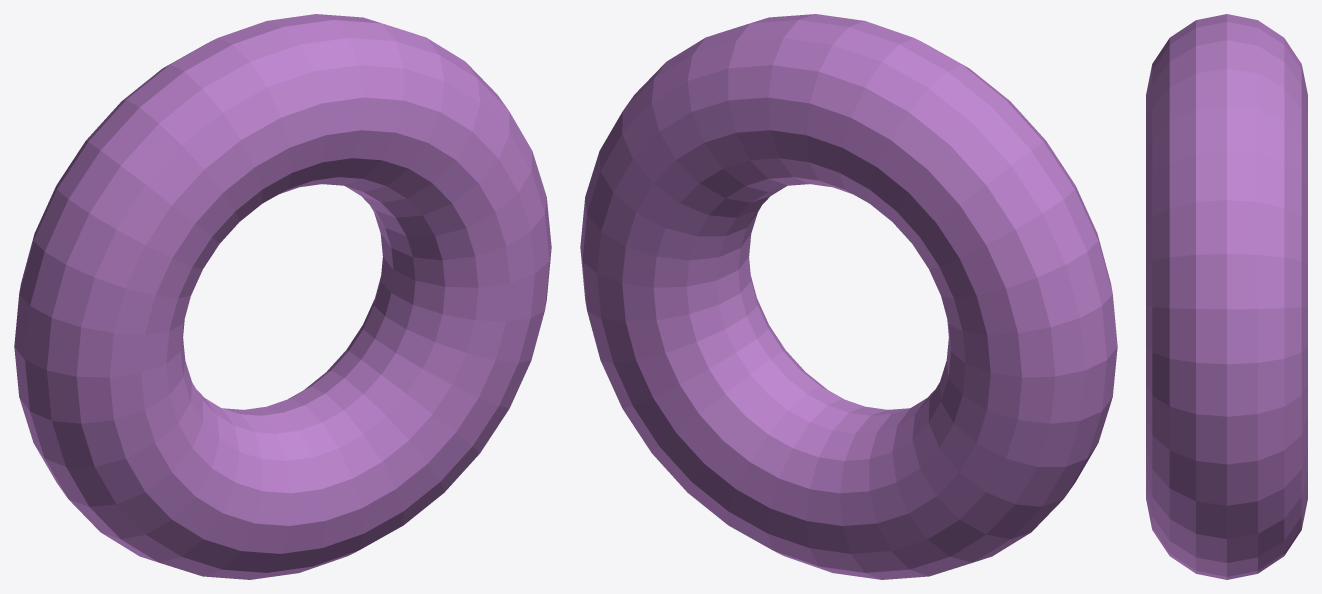
File: demo-torus.glb
The picture shows the model from 3 angles, left to right: view 1: azimuth 30°, elevation 25°; view 2: azimuth 150°, elevation 25°; view 3: azimuth 270°, elevation 25°; orthographic projection. The views are drawn at different scales.
Visible parts, largest first — view 1: world; view 2: world; view 3: world.
Part boxes in pixels (<box>): world: <box>14,14,551,579</box>; world: <box>580,14,1117,579</box>; world: <box>1146,14,1307,579</box>.
Size of the model in its own units: 2.8 by 2.8 by 0.8.
